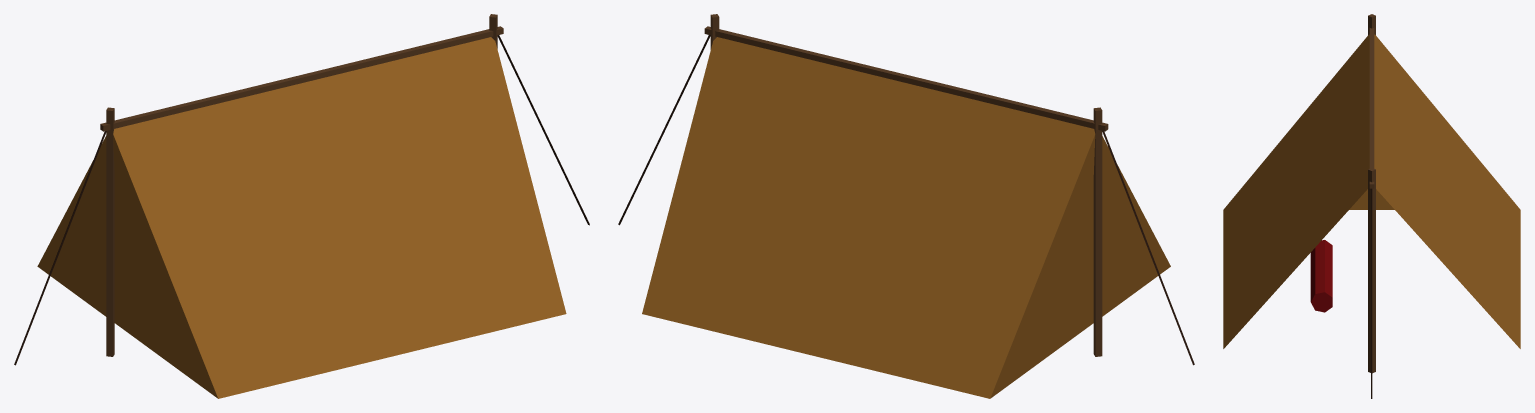
The model's file is tienda.fbx.
3 views of the same model, side by side, from view 1: azimuth 30°, elevation 25°; view 2: azimuth 150°, elevation 25°; view 3: azimuth 270°, elevation 25° (orthographic). The views are drawn at different scales.
Visible parts, largest first — view 1: tienda; view 2: tienda; view 3: tienda.
Boxes of the visible parts, x1,y1,x2,y2 form: tienda: (14,14,589,398); tienda: (618,14,1194,398); tienda: (1223,14,1520,398).
Size of the model in its own units: 6.62 by 2.7 by 3.6.
